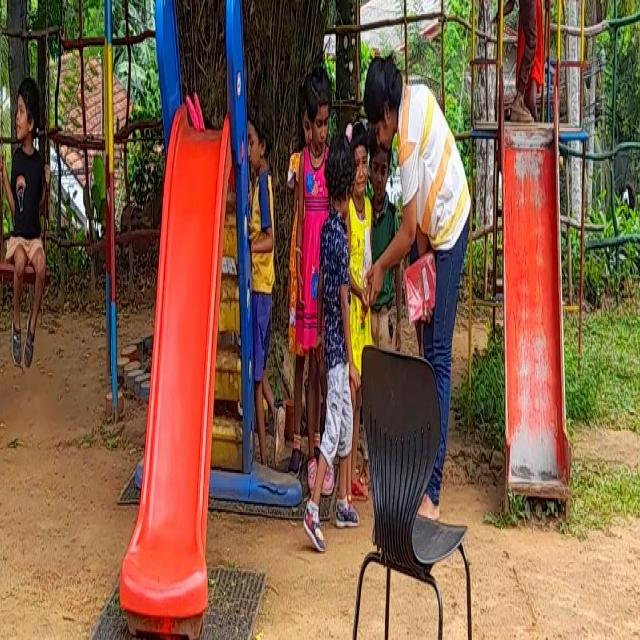child: (302, 131, 351, 550), (1, 43, 61, 368), (242, 69, 277, 459), (506, 0, 561, 106)
